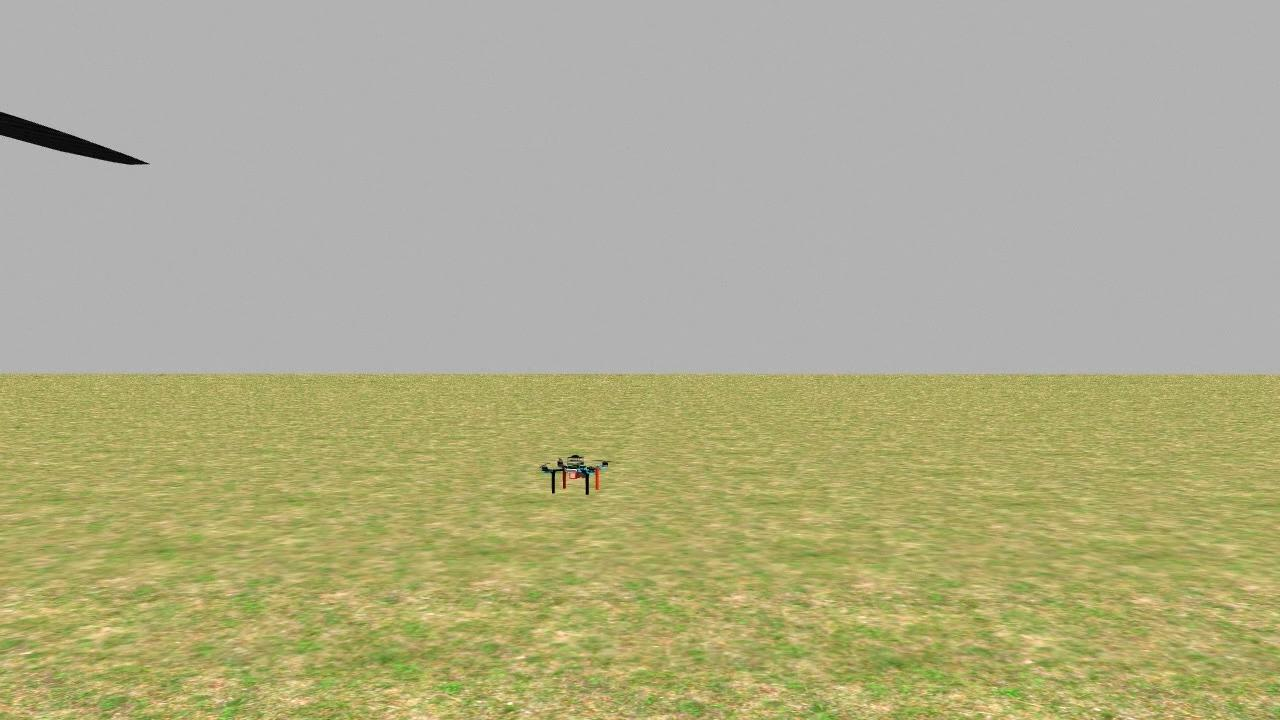UAV: (529, 434, 614, 503)
